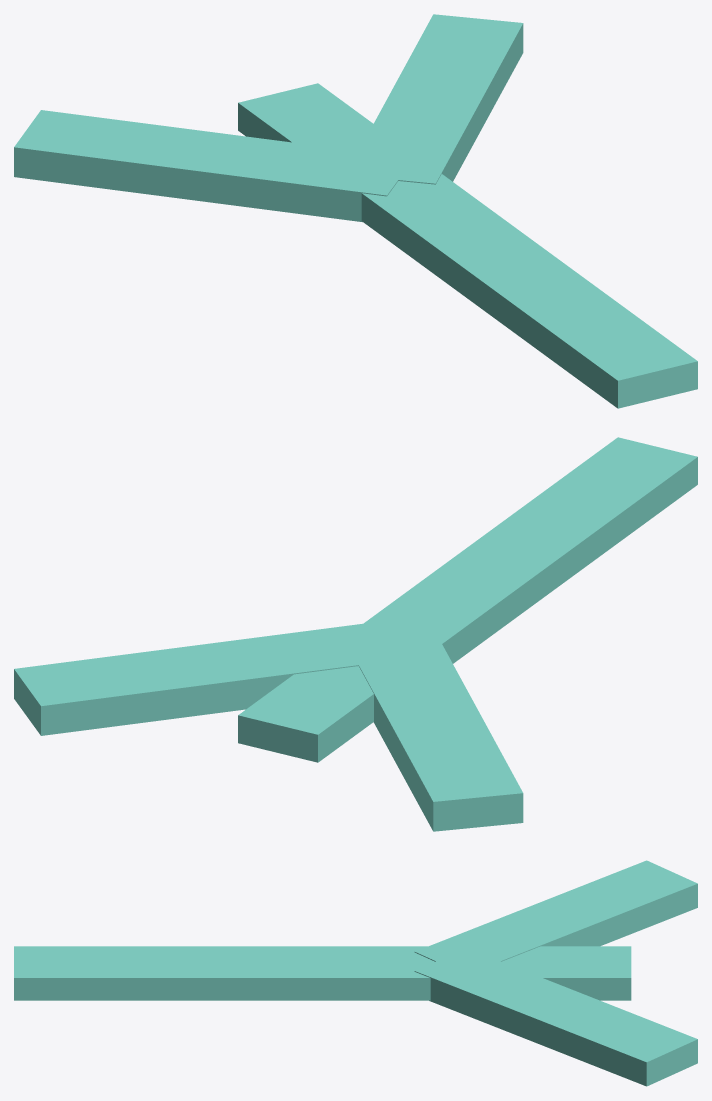
Rendered from current-arrow.glb.
3 renders of one model, top to bottom at view 1: azimuth 30°, elevation 25°; view 2: azimuth 150°, elevation 25°; view 3: azimuth 270°, elevation 25°, orthographic. The views are drawn at different scales.
Parts seen in each view (by area): view 1: current-chevron (×2), current-shaft; view 2: current-chevron (×2), current-shaft; view 3: current-chevron (×2), current-shaft.
Boxes of the visible parts, x1=… form: current-chevron (×2): x1=14, y1=14, x2=523, y2=222; current-shaft: x1=238, y1=83, x2=697, y2=408; current-chevron (×2): x1=14, y1=620, x2=523, y2=831; current-shaft: x1=238, y1=437, x2=697, y2=762; current-chevron (×2): x1=414, y1=860, x2=697, y2=1086; current-shaft: x1=14, y1=946, x2=631, y2=1000.
Size of the model in its own units: 2.86 by 0.16 by 4.1.
